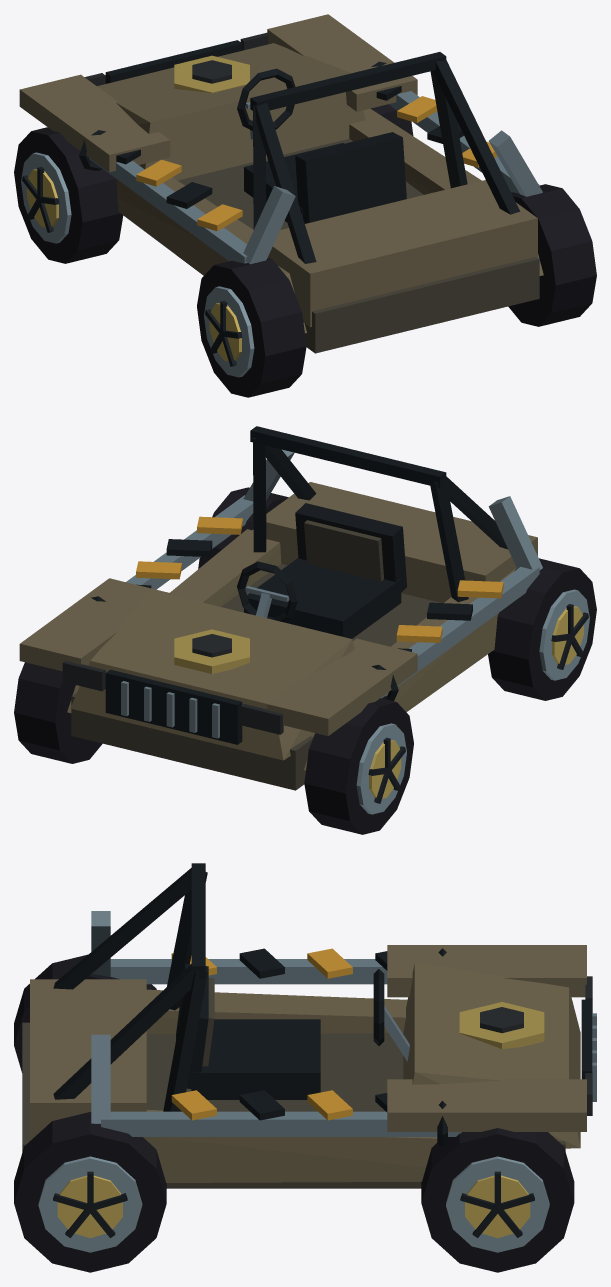
The model's file is kart.glb.
3 renders of one model, top to bottom at view 1: azimuth 30°, elevation 25°; view 2: azimuth 150°, elevation 25°; view 3: azimuth 270°, elevation 25°, orthographic. The views are drawn at different scales.
Visible parts, largest first — view 1: identity-jeep-jeep-offroad-frame, wheel-rear-left, wheel-front-left, identity-jeep-driver-cockpit, identity-jeep-motif-pipes, wheel-rear-right, identity-jeep-motif-hazard-stripes, identity-jeep-motif-badge; view 2: identity-jeep-jeep-offroad-frame, identity-jeep-driver-cockpit, wheel-front-left, wheel-rear-left, identity-jeep-motif-pipes, wheel-front-right, identity-jeep-motif-hazard-stripes, identity-jeep-motif-badge, wheel-rear-right; view 3: identity-jeep-jeep-offroad-frame, wheel-rear-right, wheel-front-right, identity-jeep-motif-pipes, identity-jeep-driver-cockpit, identity-jeep-motif-hazard-stripes, identity-jeep-motif-badge, wheel-rear-left.
Part boxes in pixels (x1,y1,x2,y2): identity-jeep-jeep-offroad-frame: (19, 14, 543, 353); wheel-rear-left: (197, 258, 306, 397); wheel-front-left: (14, 127, 123, 263); identity-jeep-driver-cockpit: (237, 68, 406, 223); identity-jeep-motif-pipes: (79, 61, 542, 264); wheel-rear-right: (508, 184, 596, 326); identity-jeep-motif-hazard-stripes: (116, 86, 497, 231); identity-jeep-motif-badge: (174, 55, 249, 92); identity-jeep-jeep-offroad-frame: (19, 426, 537, 790); identity-jeep-driver-cockpit: (237, 503, 406, 638); wheel-front-left: (304, 698, 413, 834); wheel-rear-left: (488, 558, 596, 700); identity-jeep-motif-pipes: (91, 449, 542, 701); wheel-front-right: (14, 662, 102, 763); identity-jeep-motif-hazard-stripes: (136, 516, 503, 651); identity-jeep-motif-badge: (174, 629, 249, 673); wheel-rear-right: (198, 487, 288, 569); identity-jeep-jeep-offroad-frame: (22, 863, 596, 1188); wheel-rear-right: (14, 1112, 166, 1272); wheel-front-right: (421, 1128, 574, 1272); identity-jeep-motif-pipes: (91, 911, 461, 1147); identity-jeep-driver-cockpit: (176, 964, 409, 1099); identity-jeep-motif-hazard-stripes: (171, 948, 387, 1120); identity-jeep-motif-badge: (459, 1002, 544, 1049); wheel-rear-left: (14, 954, 156, 1072).
Size of the model in its own units: 2.13 by 1.39 by 2.75.
